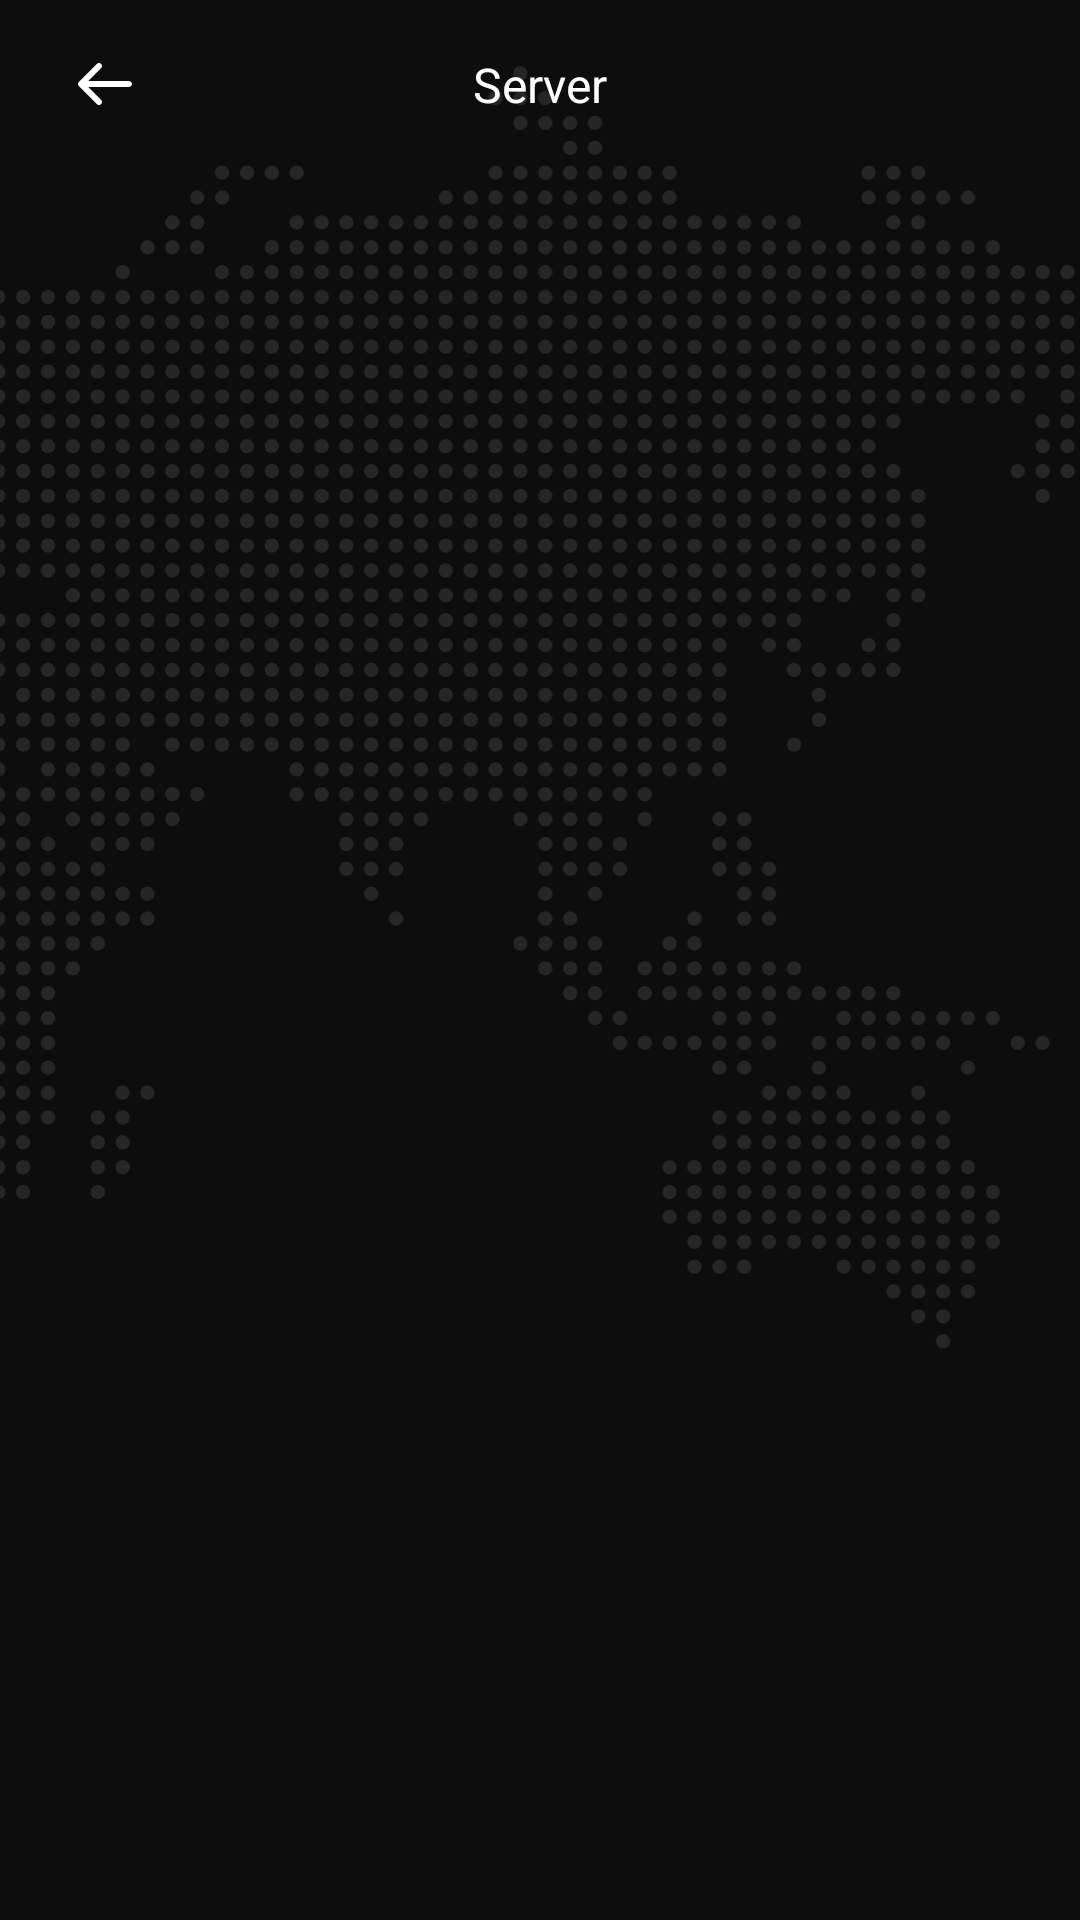

Icons on this 1080×1920 Android screen, each with its box as (x1, y1, x2, y2):
back: (78, 63, 132, 105)
